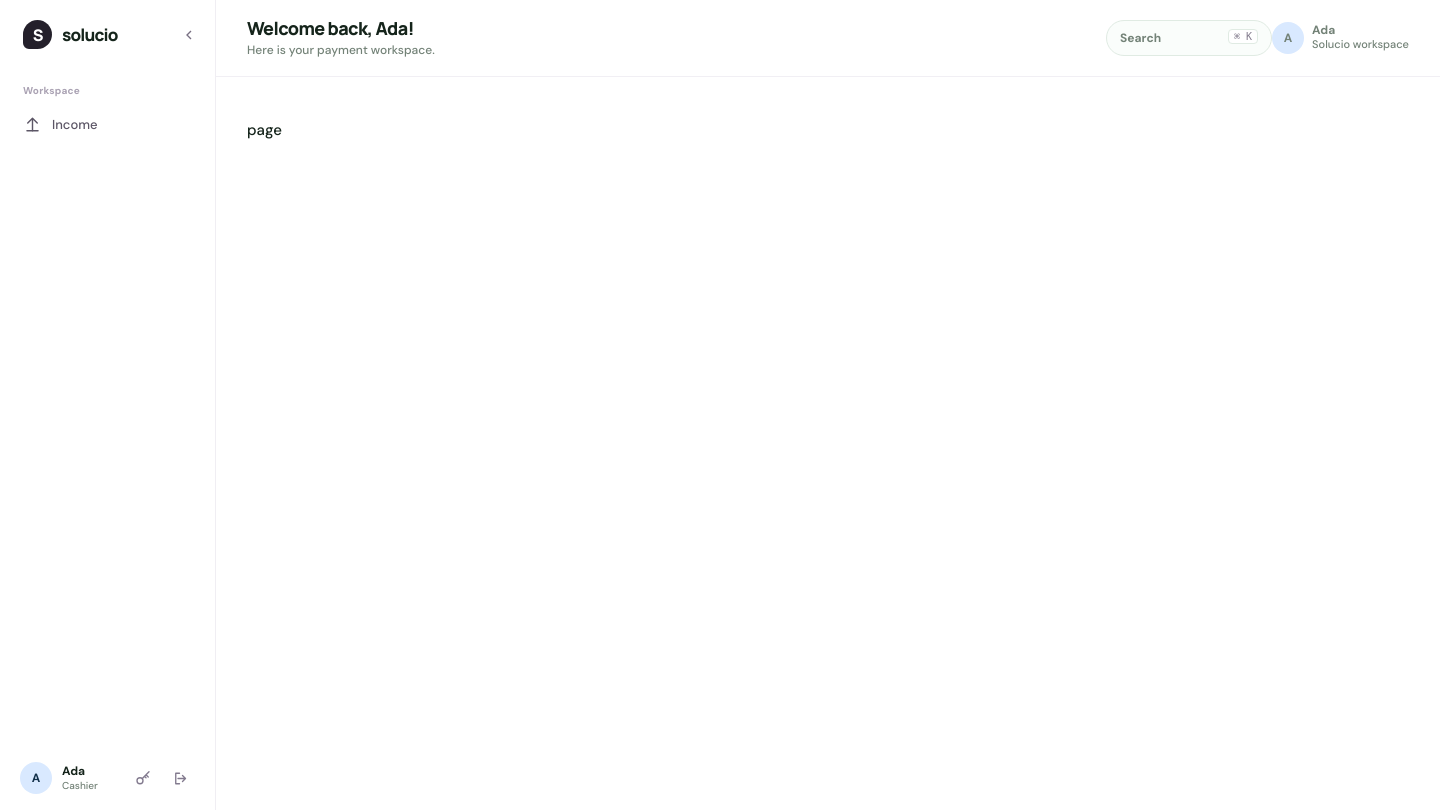
anyone signed in can change their own password from the sidebar
Click the button named "Change password" at [143, 778], box [129,762,157,794]
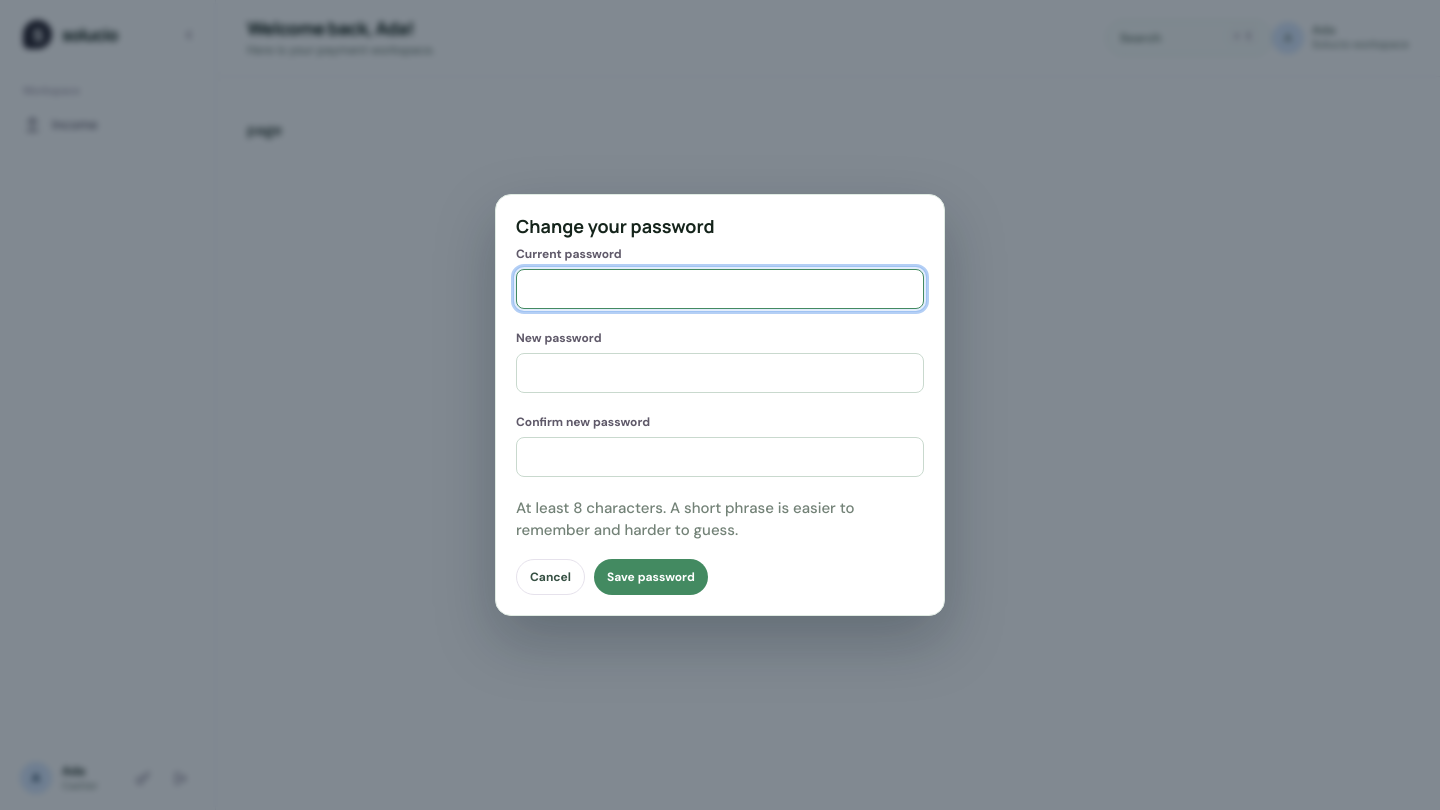
Type "old-password" into the password field labelled "Current password" at [720, 289], box [516,269,924,309]
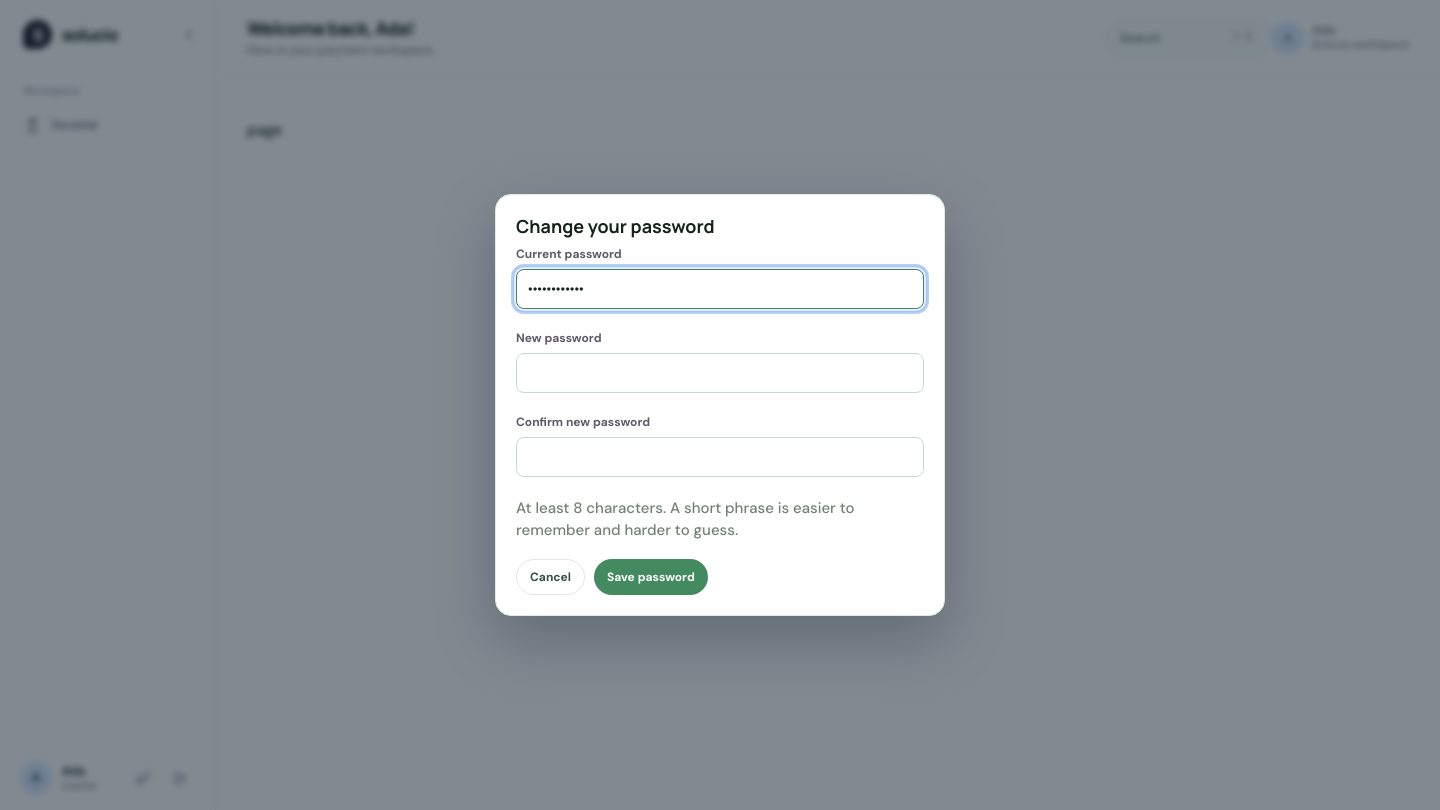
Type "brand-new-pass" into the password field labelled "New password" at [720, 373], box [516,353,924,393]
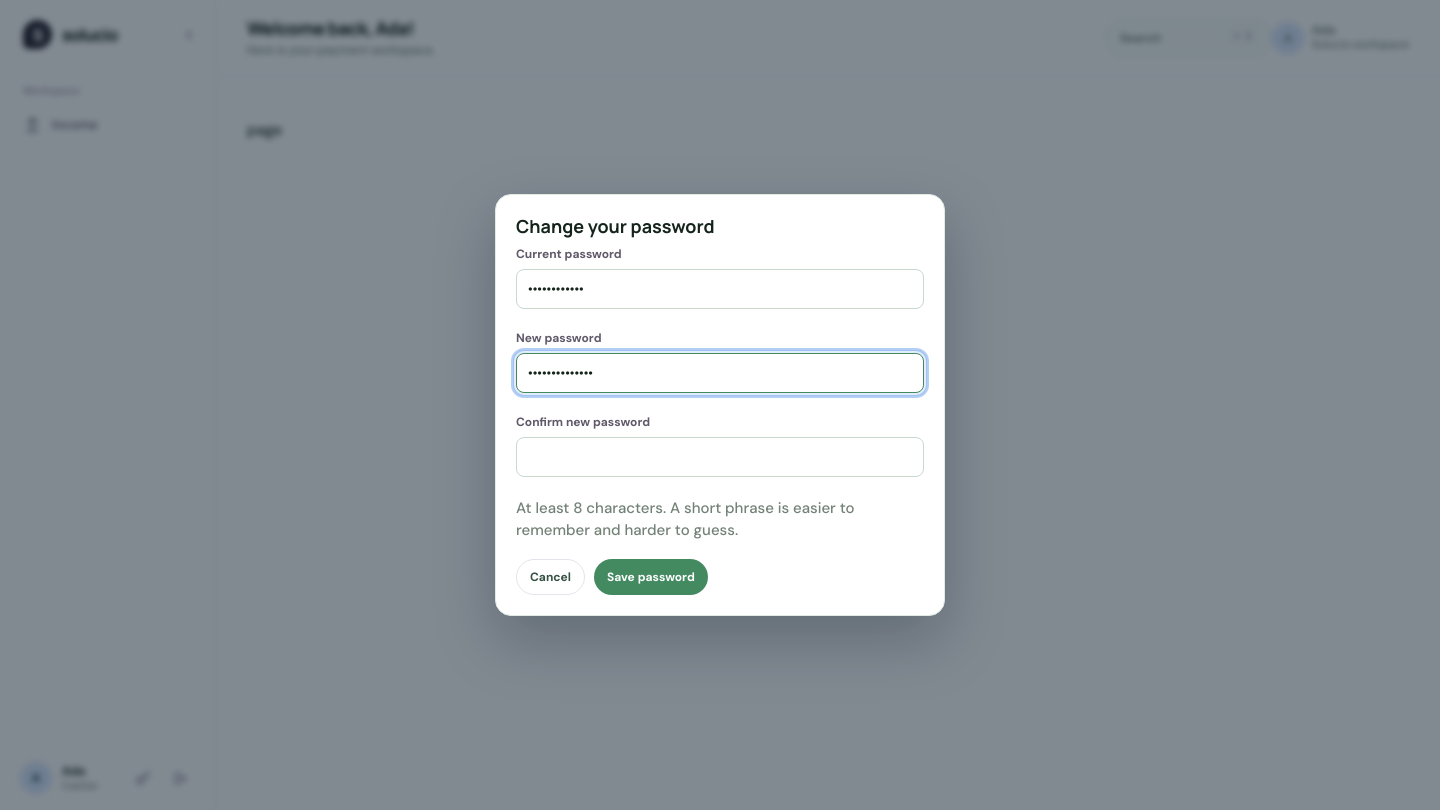
Type "brand-new-pass" into the password field labelled "Confirm new password" at [720, 457], box [516,437,924,477]
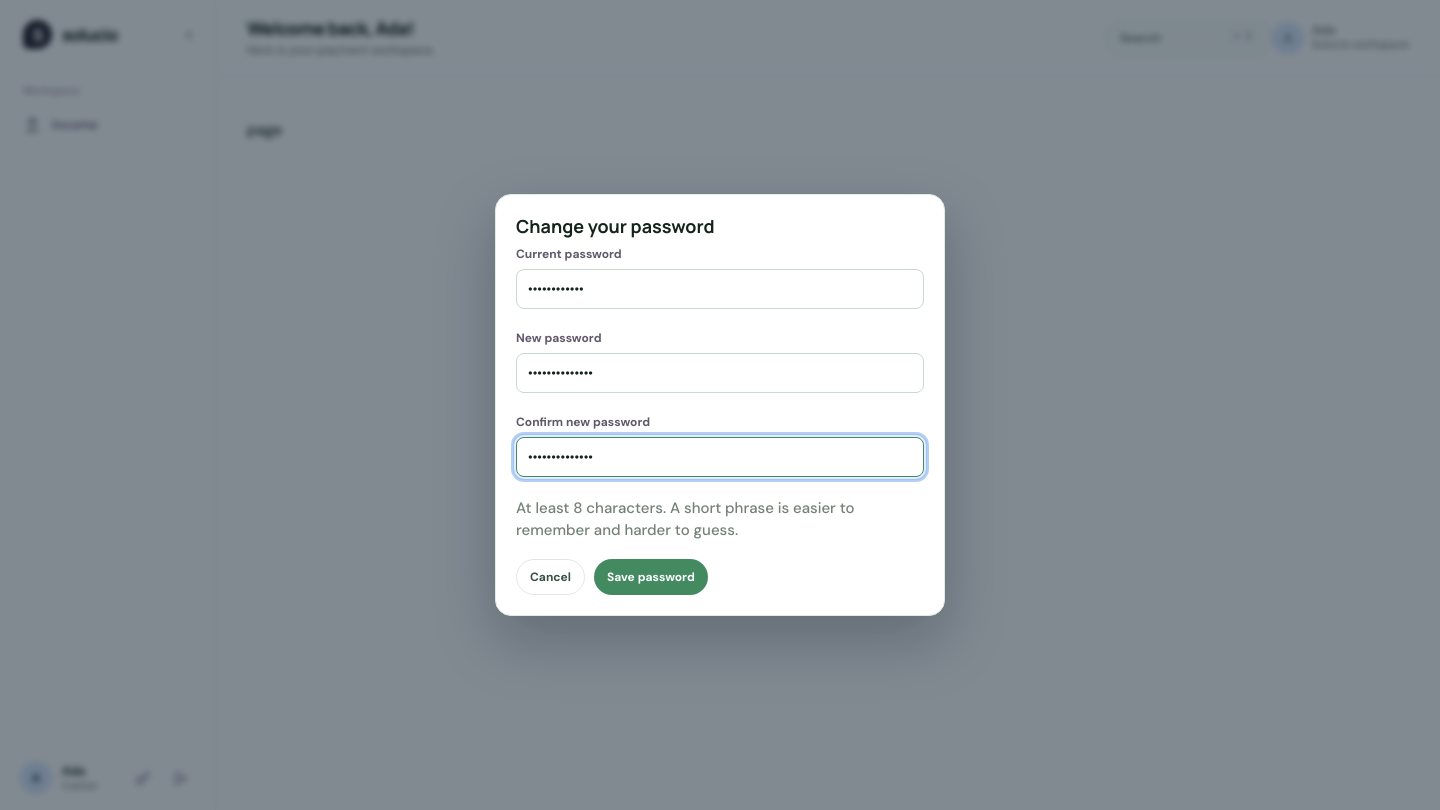
Click the button "Save password" at [651, 577], box [594,559,708,595]
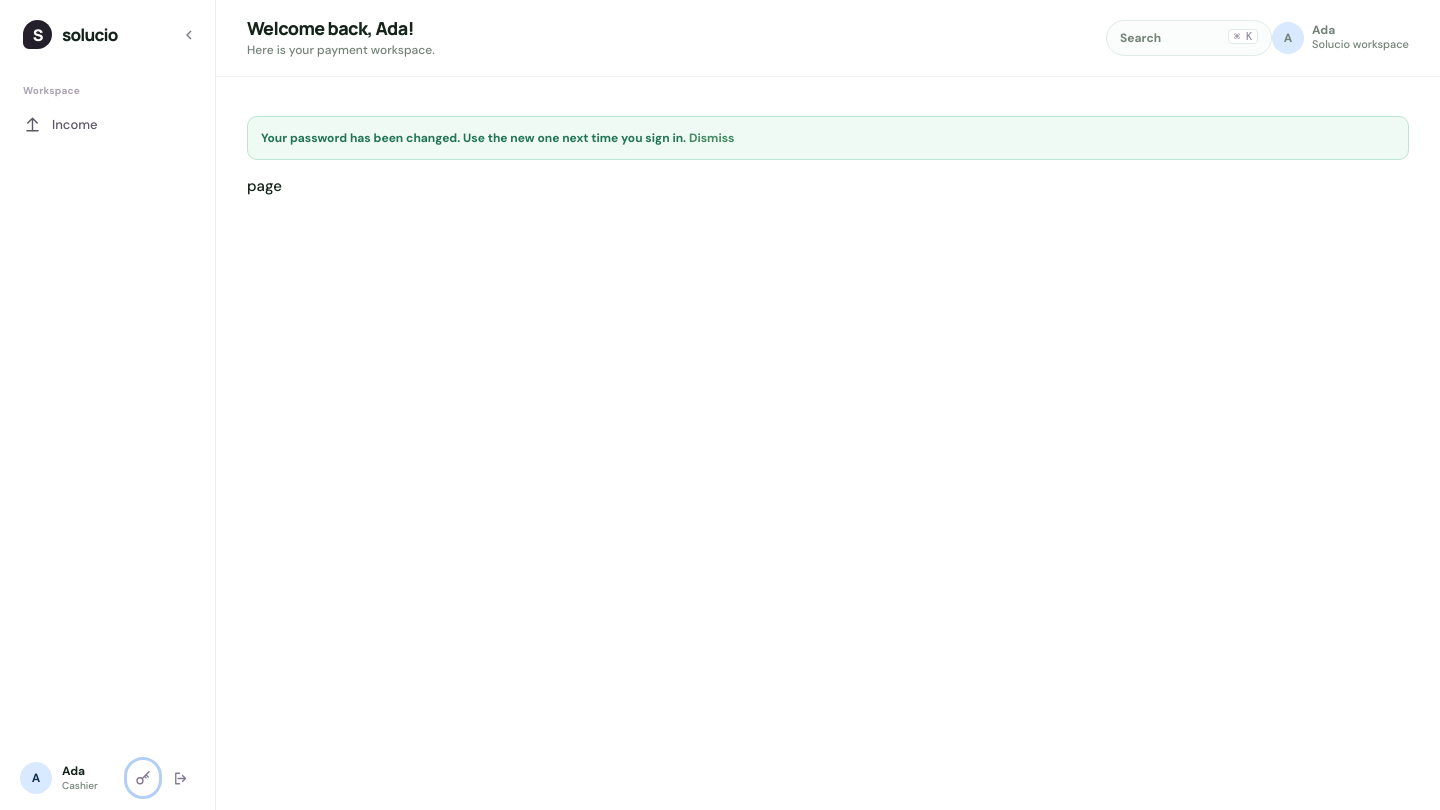
Expected: the message shows "Your password has been changed", [261,130,686,146]
